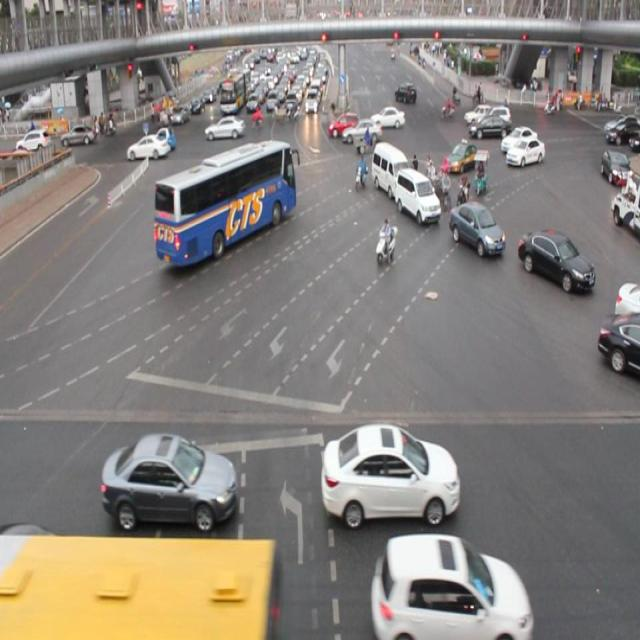car: (371, 534, 531, 640), (100, 423, 235, 533), (318, 422, 459, 524), (1, 521, 80, 605), (518, 220, 595, 298), (446, 200, 504, 259), (599, 311, 640, 372), (128, 130, 171, 160), (612, 273, 640, 318), (507, 139, 544, 172), (502, 125, 537, 156), (443, 138, 475, 170), (326, 108, 358, 135), (470, 115, 509, 137), (343, 119, 380, 142)
truck: (391, 166, 438, 225), (369, 138, 407, 193)
van: (1, 533, 277, 640), (154, 138, 294, 266)
